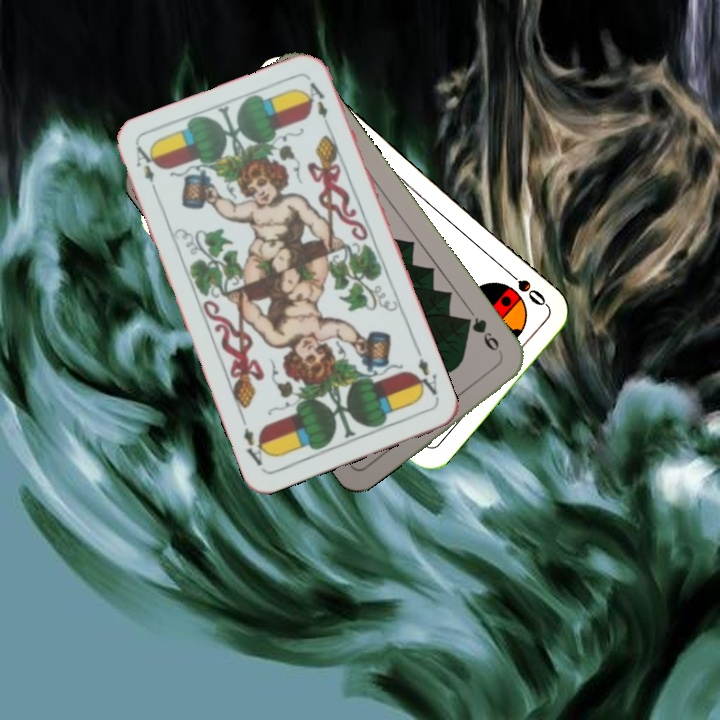EA: (410, 345, 441, 402), (131, 142, 161, 199)
G9: (459, 313, 506, 360)
SO: (501, 265, 550, 309)
